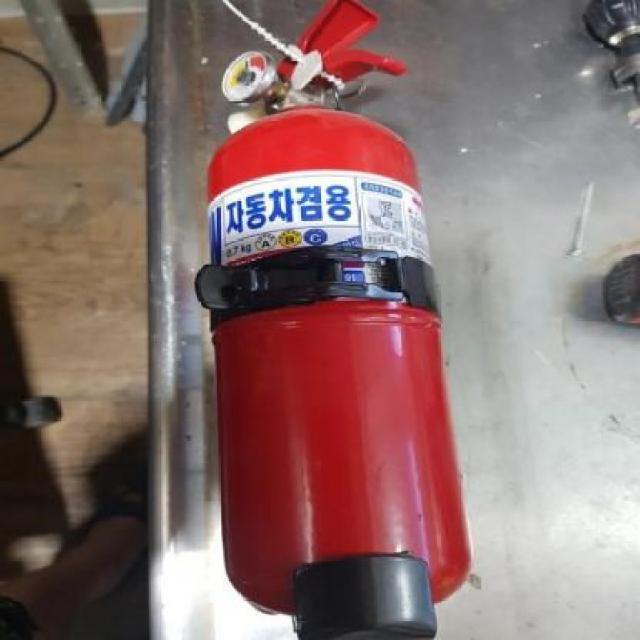fire extinguisher: (194, 0, 475, 640)
